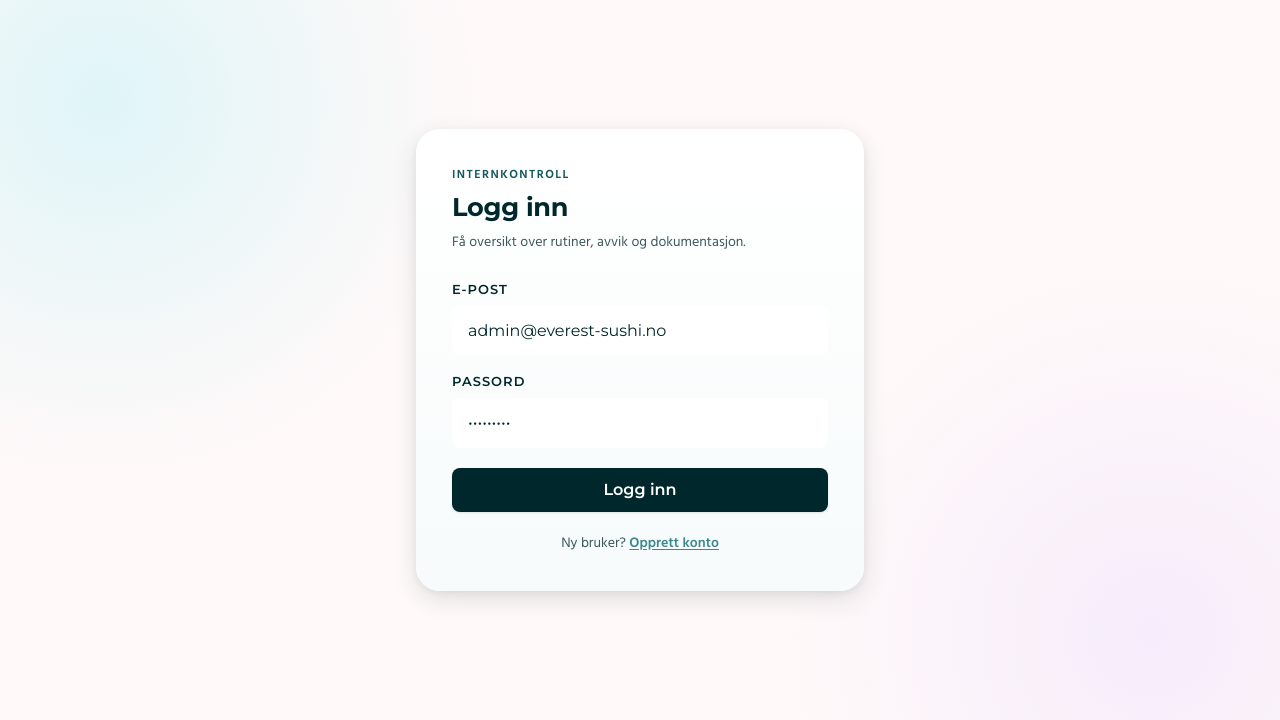
Scenario: Authentication Flow › Login Page › should show error message on invalid credentials
# Clear fields
Clear the field with id "email". click: (640, 331)
box: [452, 306, 828, 356]
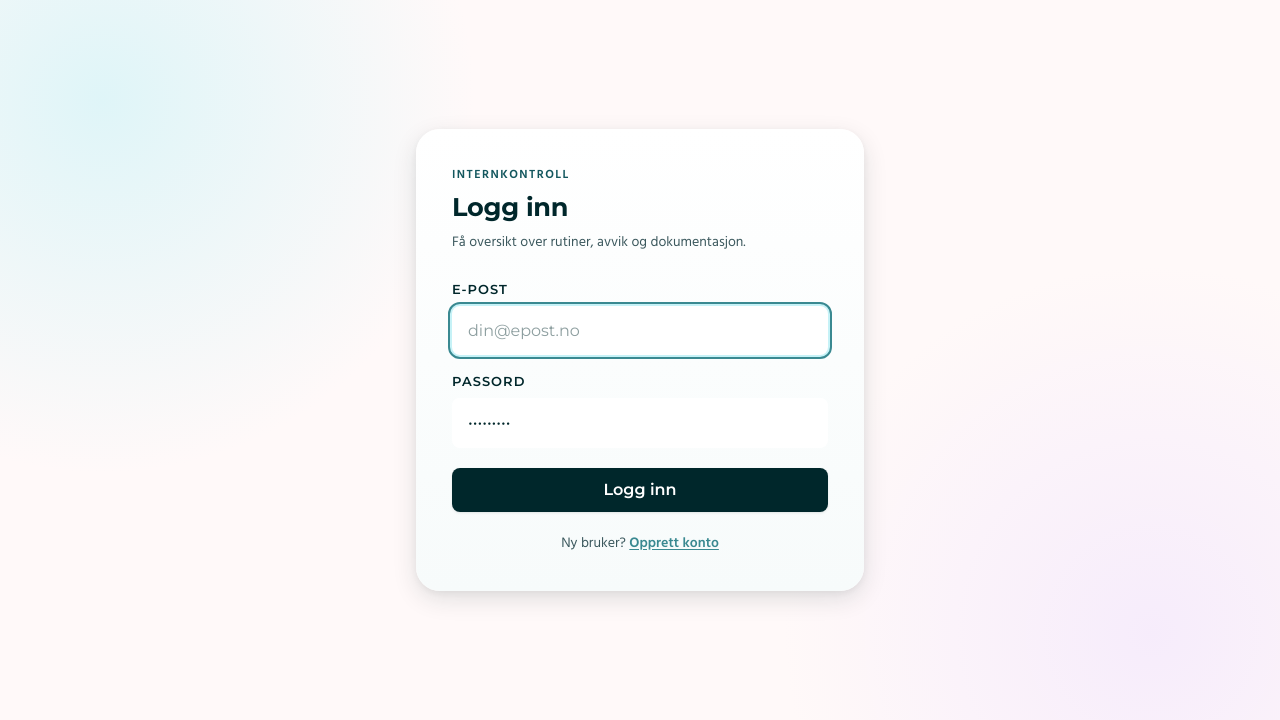
Clear the password field labelled "Passord". click: (640, 423)
box: [452, 398, 828, 448]
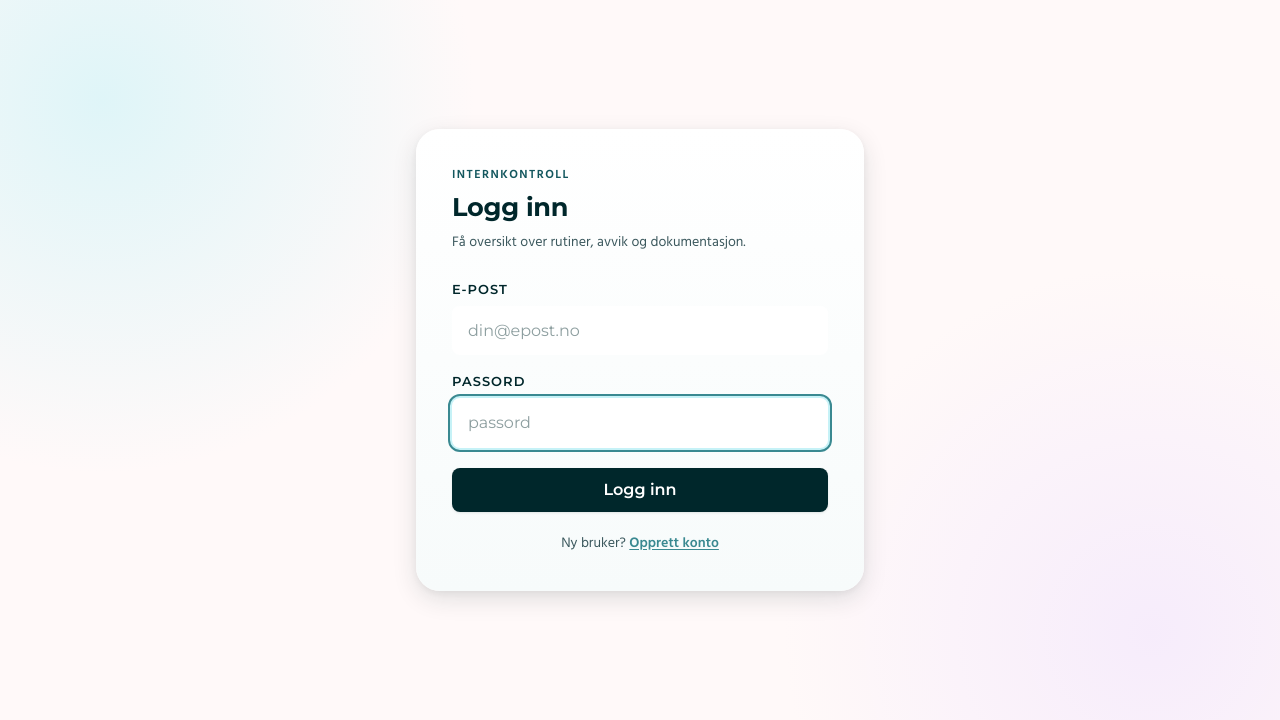
# Type wrong credentials
Type "wrong@example.com" into the field with id "email". click: (640, 331)
box: [452, 306, 828, 356]
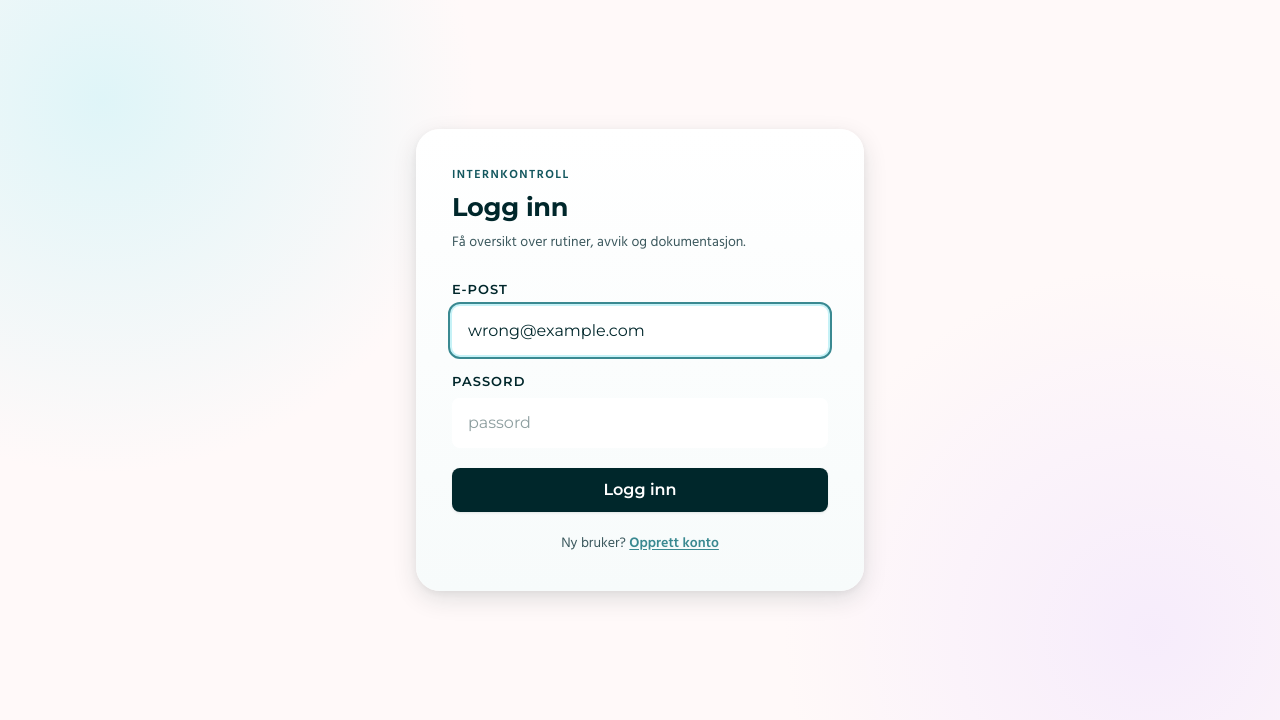
Type "wrongpassword" into the password field labelled "Passord". click: (640, 423)
box: [452, 398, 828, 448]
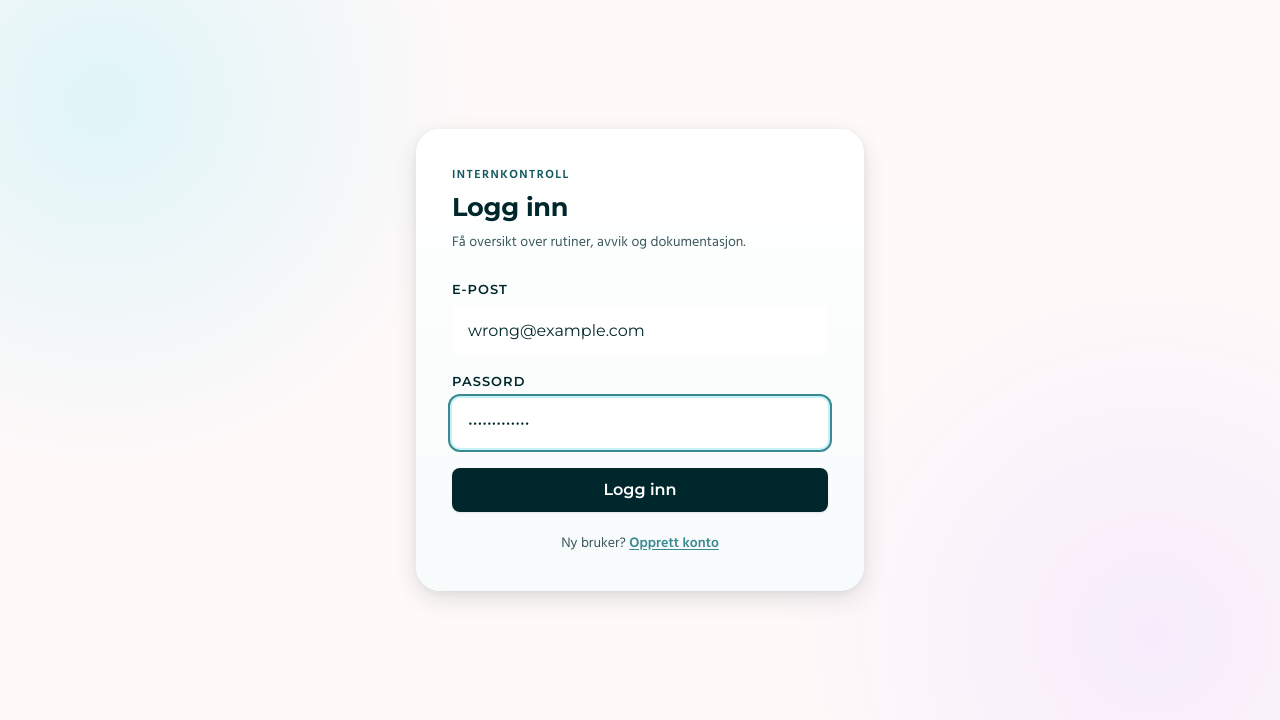
# Submit form
Click the submit button. click: (640, 490)
box: [452, 468, 828, 512]
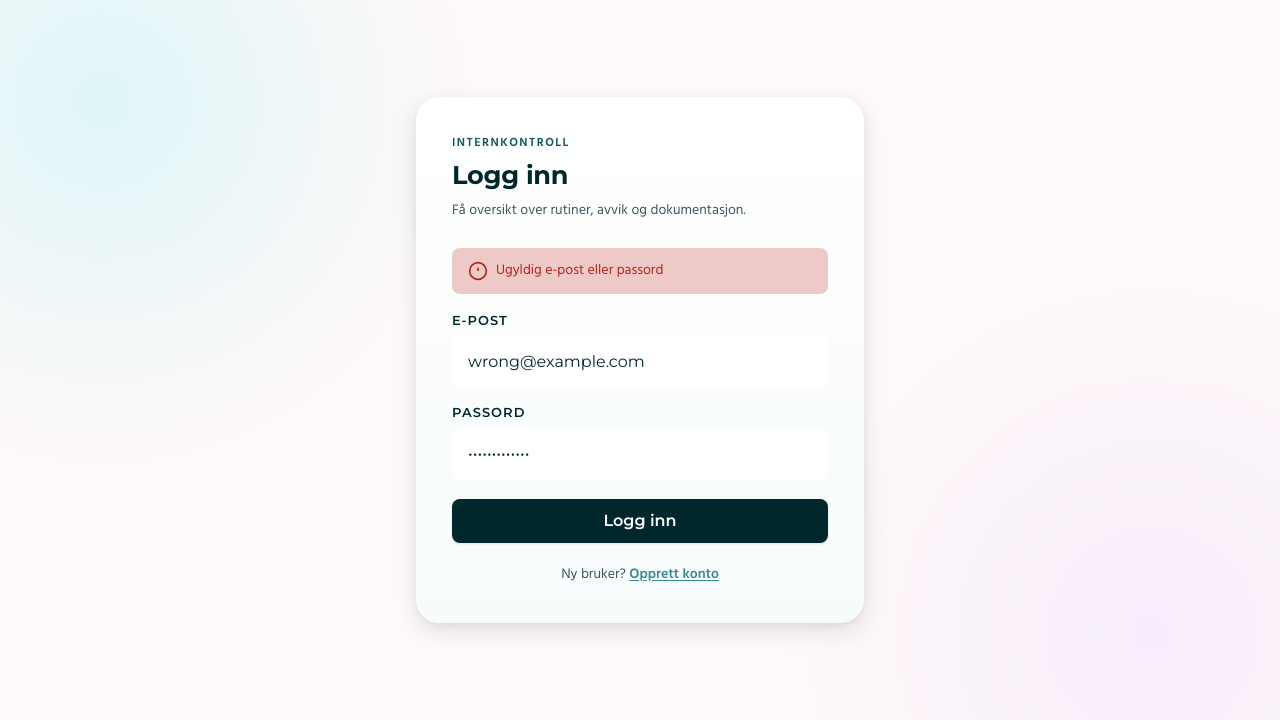
Check: the message "Ugyldig e-post eller passord" is shown, box [452, 248, 828, 294]
Check: the message with class "error-message" shows "Ugyldig", box [496, 259, 663, 282]
